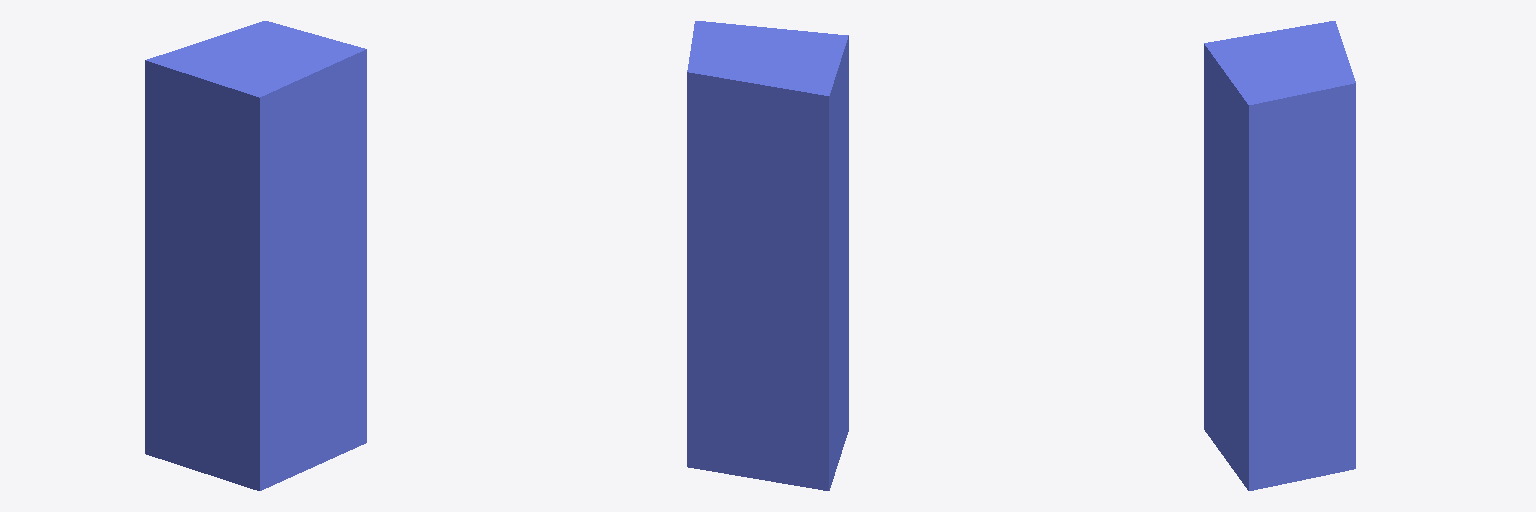
The robot description file, URDF, robot "quad_prism_3":
<?xml version="1.0" ?>
<robot name="quad_prism_3">
  <link name="base_link">
    <visual>
      <origin xyz="0 0 0" rpy="0 0 0"/>
      <geometry>
        <mesh filename="quad_prism_3.stl"/>
      </geometry>
      <material name="color">
        <color rgba="0.48700592565858714 0.5598201587996936 0.9901843509772777 1.0"/>
      </material>
    </visual>
    <collision>
      <origin xyz="0 0 0" rpy="0 0 0"/>
      <geometry>
        <mesh filename="quad_prism_3.stl"/>
      </geometry>
    </collision>
    <inertial>
      <origin xyz="0 0 0" rpy="0 0 0"/>
      <mass value="1.0"/>
      <inertia ixx="0.1" ixy="0" ixz="0" iyy="0.1" iyz="0" izz="0.1"/>
    </inertial>
  </link>
</robot>

--- Facts derived from the render (not from the file) ---
The picture shows the robot from 3 angles, left to right: view 1: azimuth 30°, elevation 25°; view 2: azimuth 150°, elevation 25°; view 3: azimuth 270°, elevation 25°; orthographic projection.
Model quad_prism_3 with 1 links and 0 joints (none), rooted at base_link, posed all joints at 0.
Visible links, largest first — view 1: base_link; view 2: base_link; view 3: base_link.
Link boxes in pixels (x1,y1,x2,y2): base_link: (145, 21, 366, 490); base_link: (687, 21, 848, 490); base_link: (1204, 21, 1355, 490).
Size in the robot's own frame: 1.42 by 1.07 by 3 metres.
1 mesh visuals loaded from 1 distinct referenced files (1 binary STL).